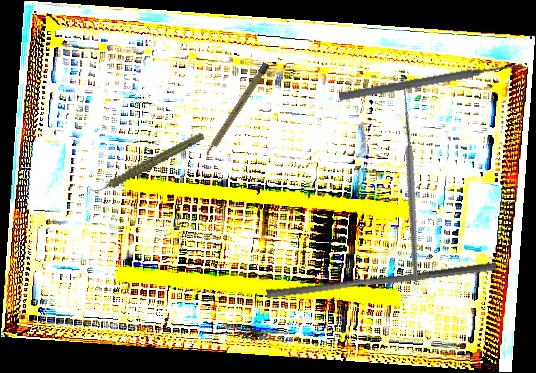Handpiece: (82, 131, 212, 195)
Hook Surgical: (315, 76, 497, 283)
Pusher: (266, 253, 497, 307), (338, 59, 523, 103)
Scalpel Handle: (203, 62, 270, 159)
